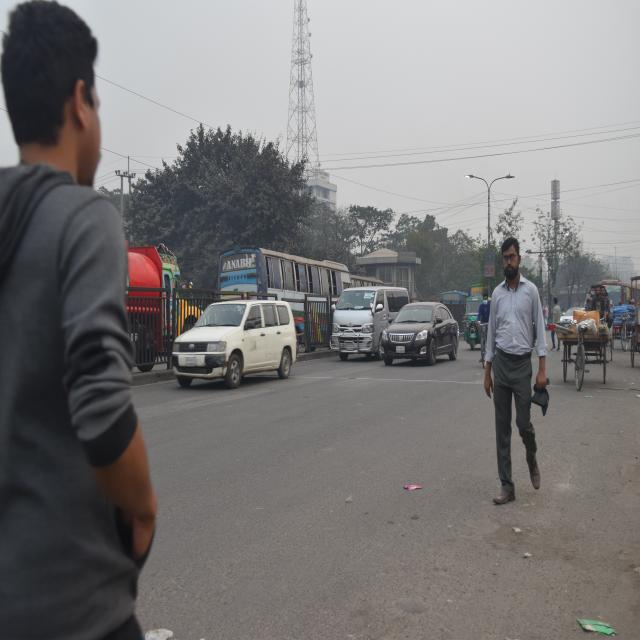bus: (218, 241, 349, 300), (606, 278, 639, 312)
car: (170, 297, 294, 390), (388, 304, 461, 360)
microbus: (330, 282, 404, 356)
